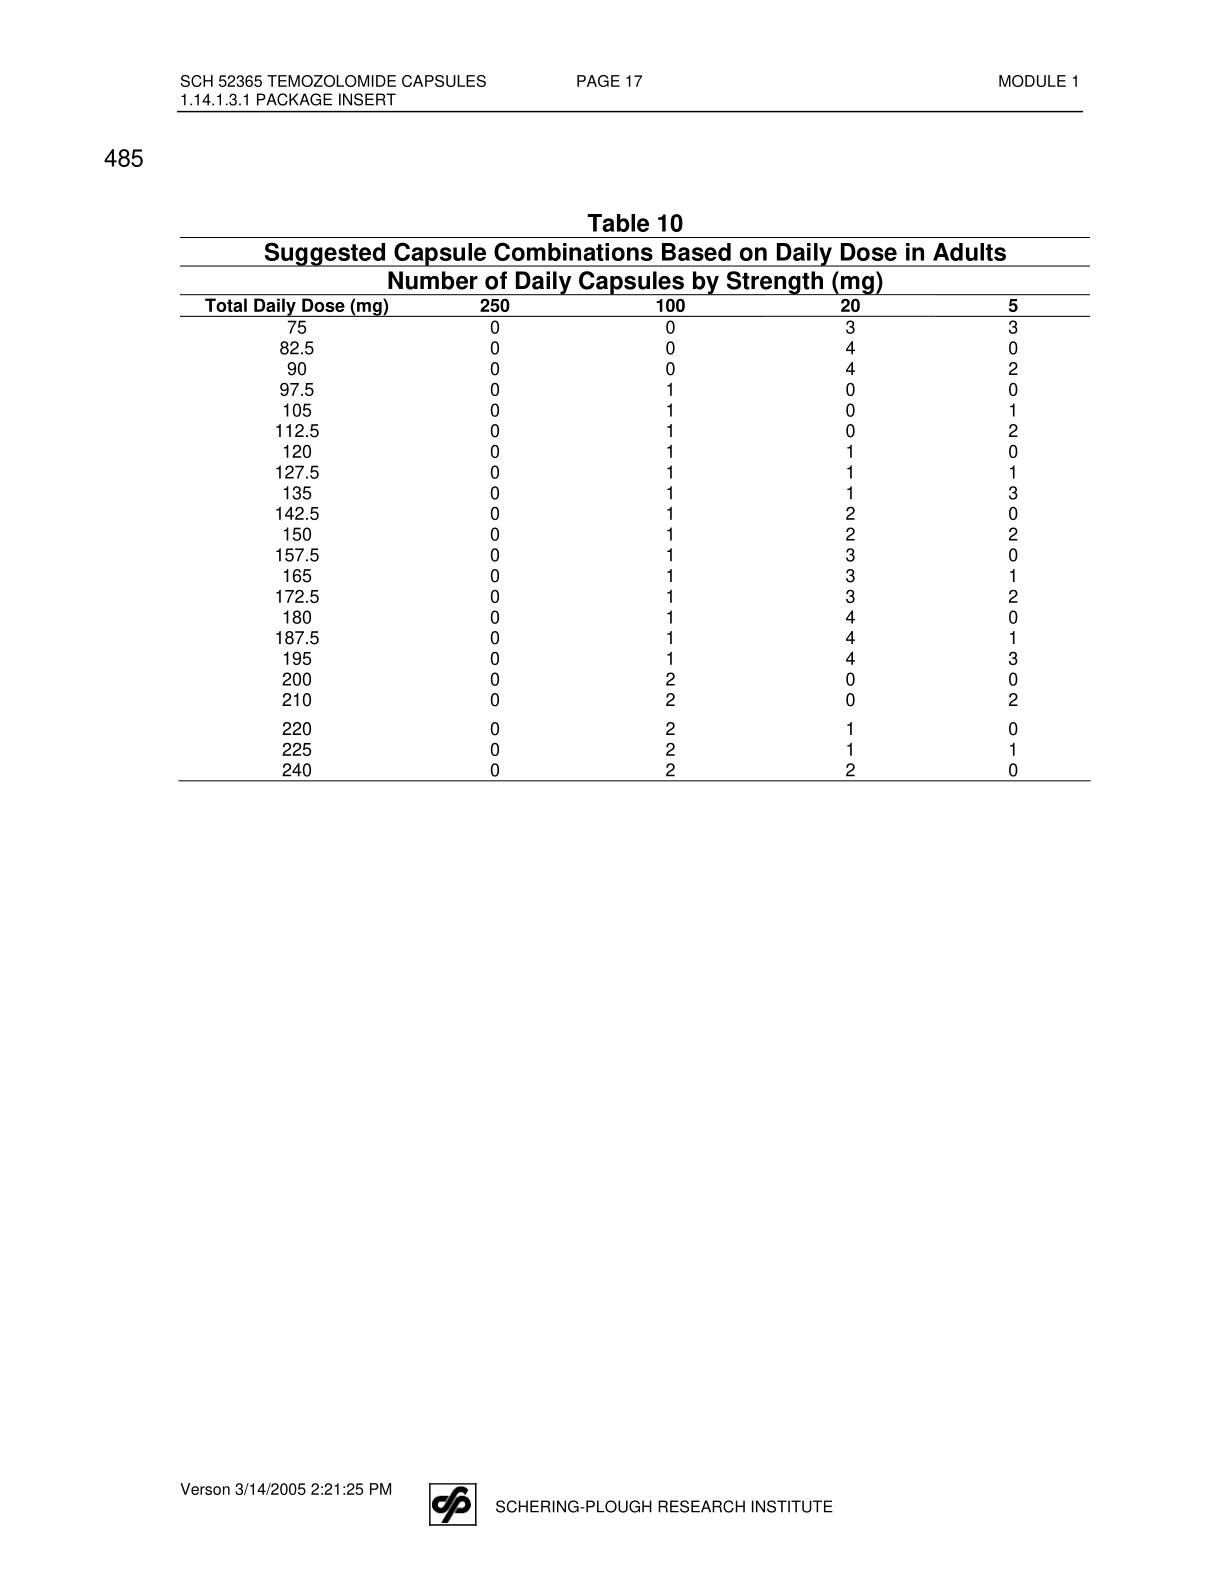partial_lined_merged_cells: (177, 208, 1094, 786)
